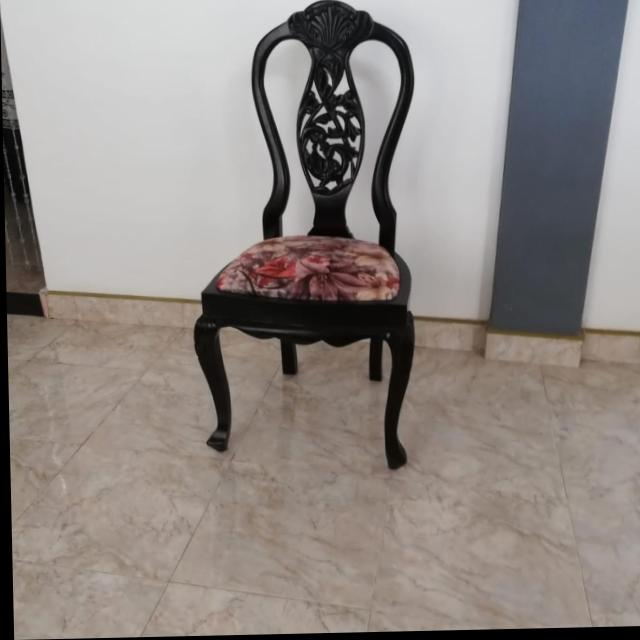Chair: (186, 0, 424, 477)
